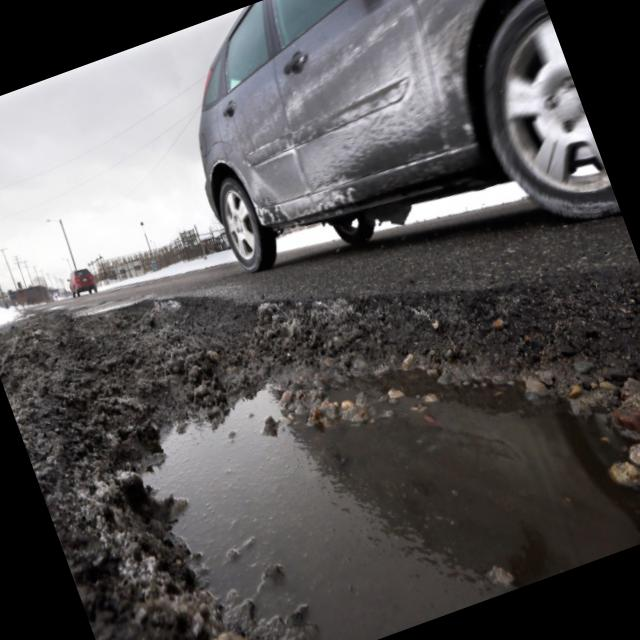Potholes: (34, 216, 640, 640)
